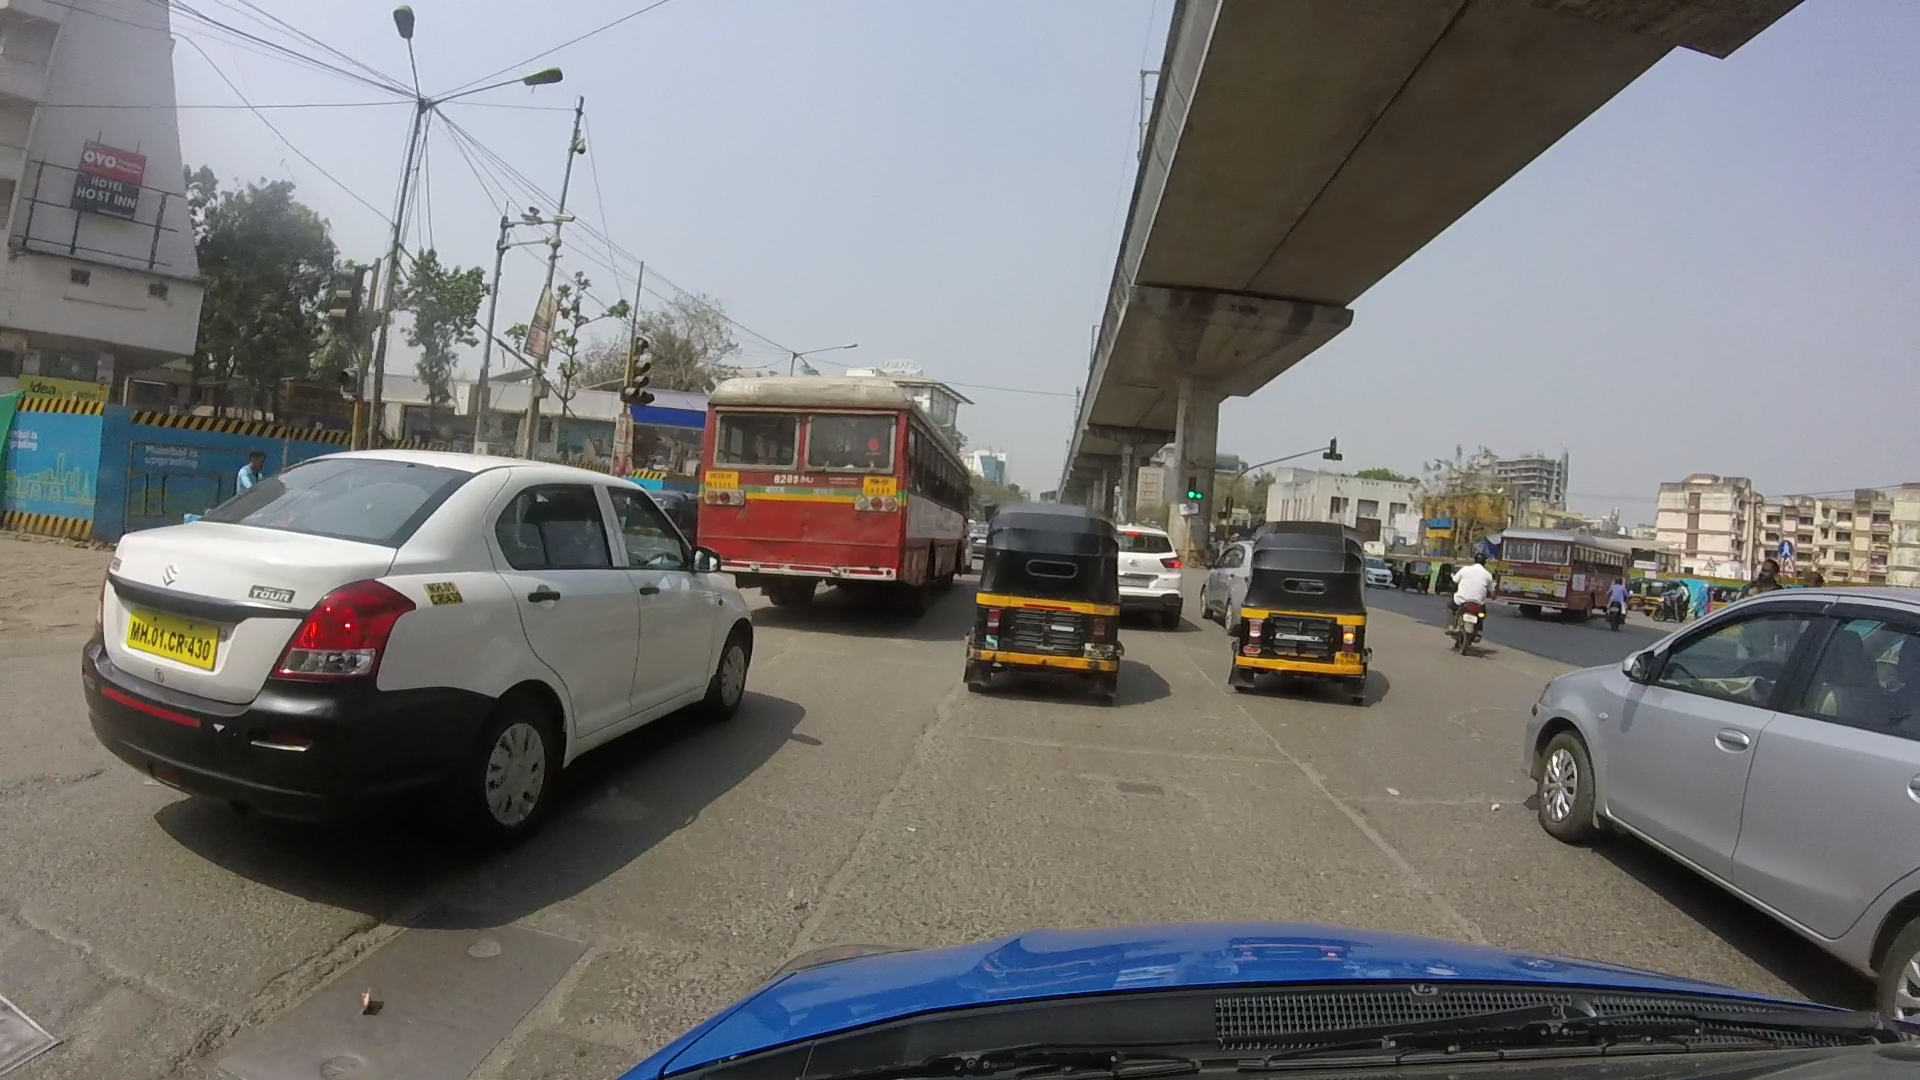bike/scooter: (1433, 549, 1493, 642)
bus: (702, 377, 961, 592)
car: (90, 444, 764, 839), (1522, 580, 1920, 992), (1098, 530, 1189, 613)
rickshaw: (967, 506, 1122, 686), (1228, 516, 1369, 686)
